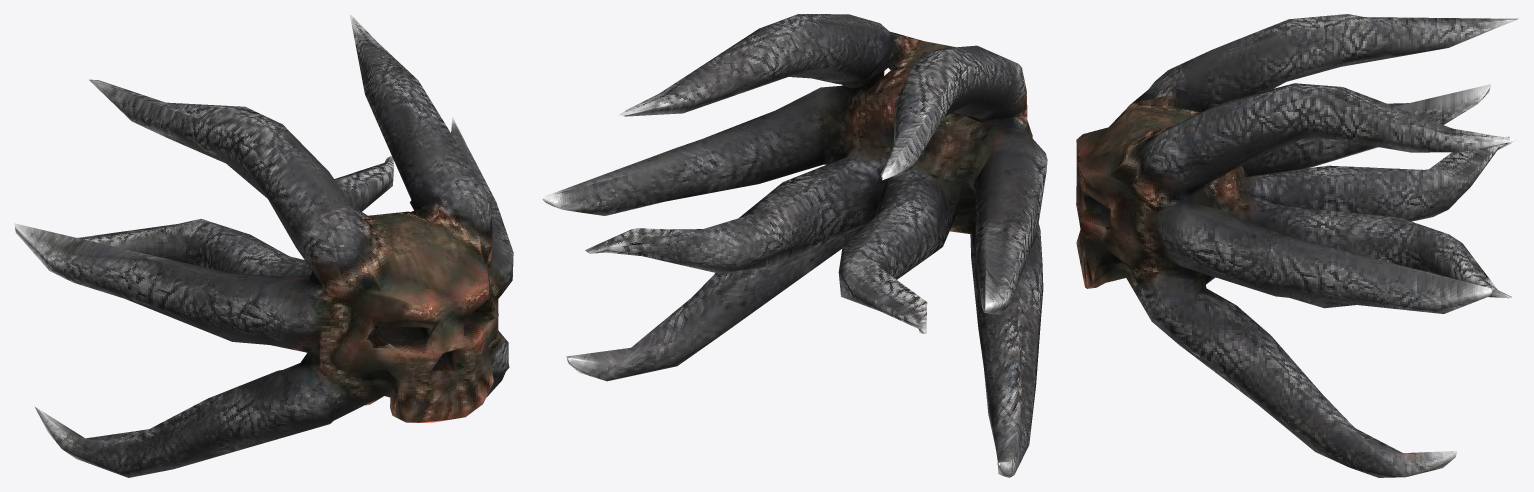
The model's file is skull.glb.
3 views of the same model, side by side, from view 1: azimuth 30°, elevation 25°; view 2: azimuth 150°, elevation 25°; view 3: azimuth 270°, elevation 25° (orthographic). The views are drawn at different scales.
Visible parts, largest first — view 1: skull; view 2: skull; view 3: skull.
Part boxes in pixels (left/top/right/bottom): skull: left=14, top=14, right=513, bottom=477; skull: left=542, top=14, right=1047, bottom=477; skull: left=1076, top=14, right=1519, bottom=477.
Bounding box in the file's own units: 2 × 1.54 × 1.83.
Materials: 1 (1 with a texture image).
